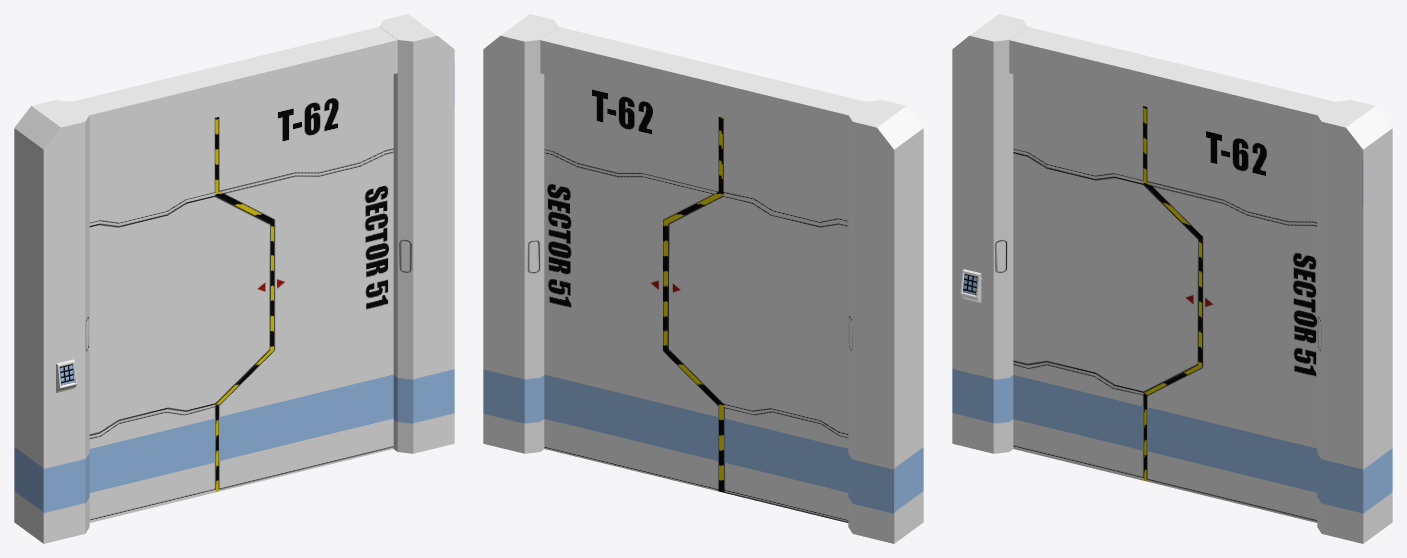
Rendered from door scifi2.fbx.
3 renders of one model, left to right at view 1: azimuth 30°, elevation 25°; view 2: azimuth 150°, elevation 25°; view 3: azimuth 330°, elevation 25°, orthographic.
Visible parts, largest first — view 1: Door_Frame, Door_Left, Door_Right; view 2: Door_Frame, Door_Left, Door_Right; view 3: Door_Frame, Door_Left, Door_Right.
Part boxes in pixels (x1,y1,x2,y2): Door_Frame: [14, 14, 454, 543]; Door_Left: [89, 117, 272, 522]; Door_Right: [216, 74, 393, 491]; Door_Frame: [483, 14, 923, 543]; Door_Left: [665, 117, 848, 522]; Door_Right: [544, 74, 721, 491]; Door_Frame: [952, 14, 1392, 543]; Door_Left: [1013, 74, 1200, 480]; Door_Right: [1144, 106, 1317, 522].
Size of the model in its own units: 240 by 230 by 34.11.
